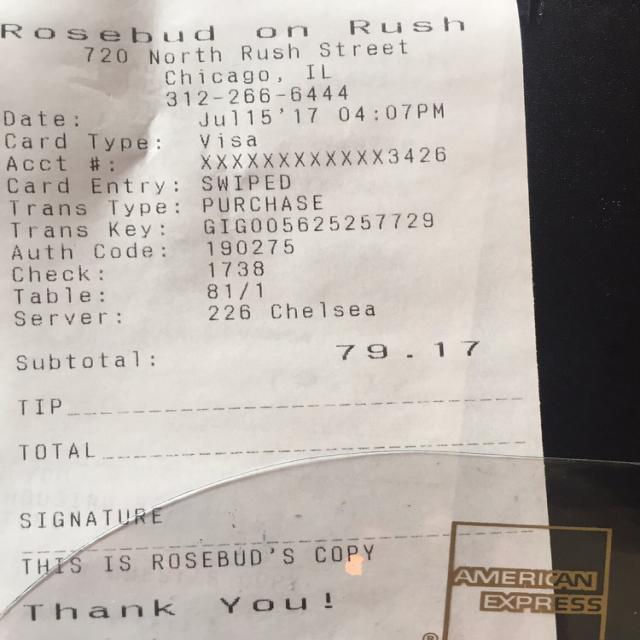TotalPrice: (0, 322, 525, 382)
